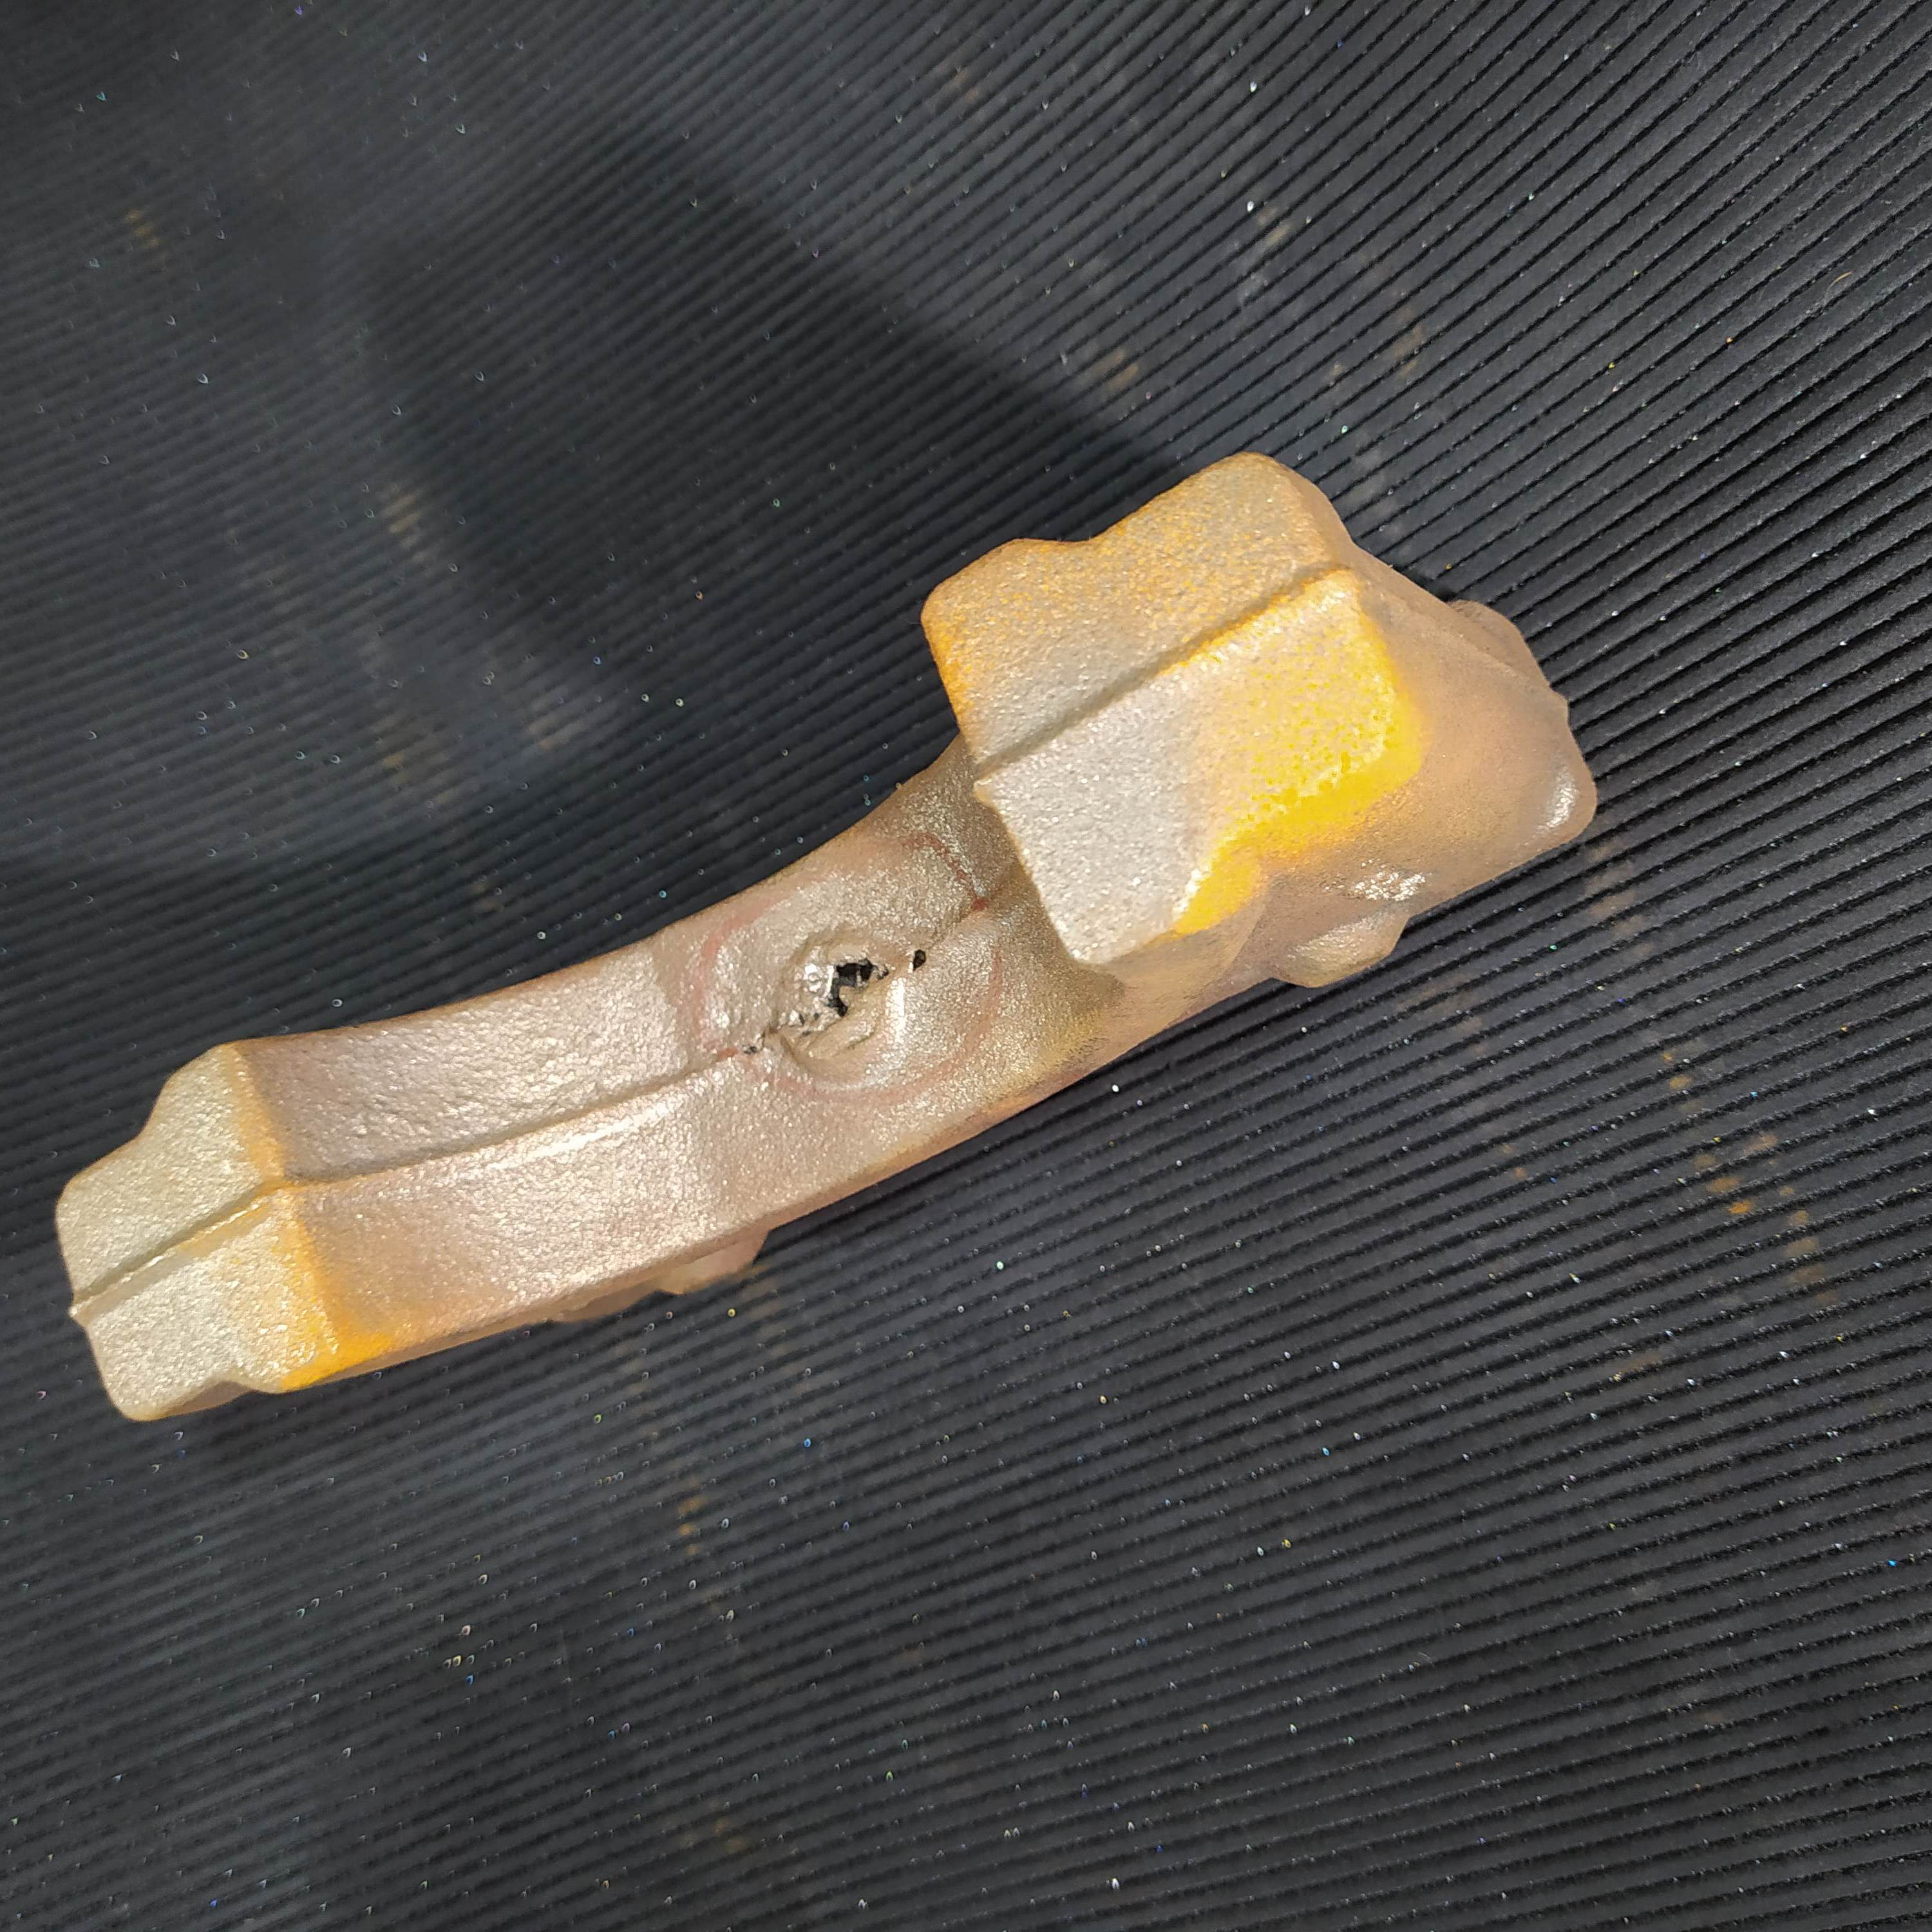buraco: (824, 954, 888, 1028), (909, 943, 932, 982), (741, 1039, 763, 1062)
